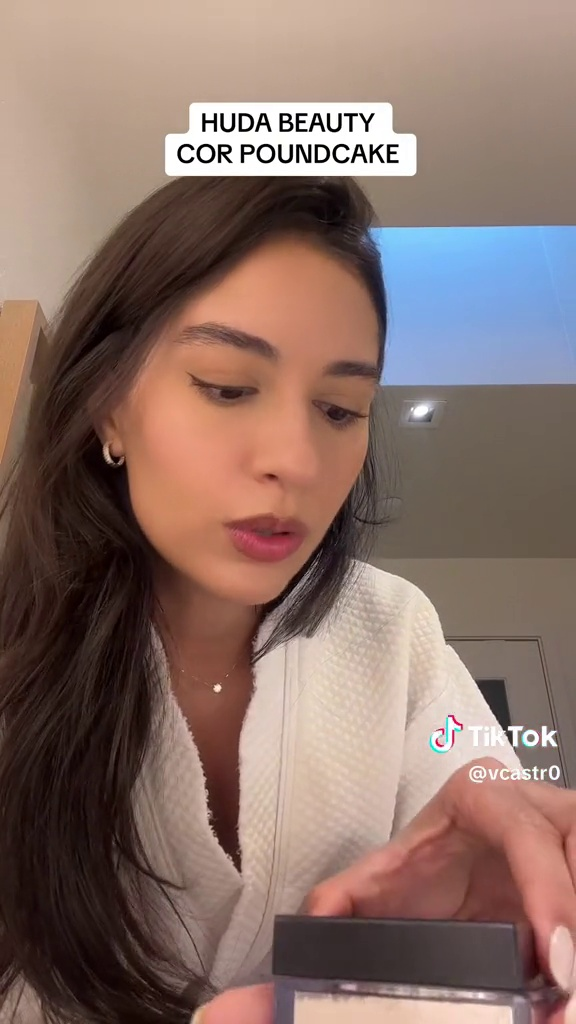train' :'yolo_data/train/images',: (259, 899, 574, 1023)
